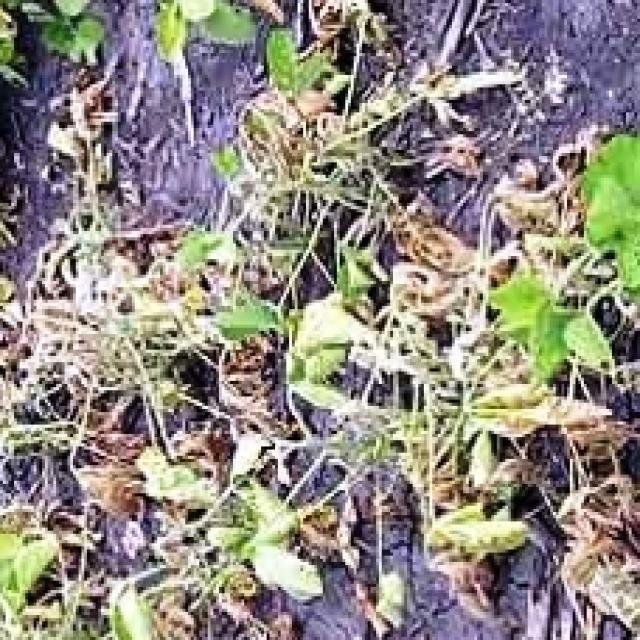Fusarium Wilt: (6, 12, 637, 640)
